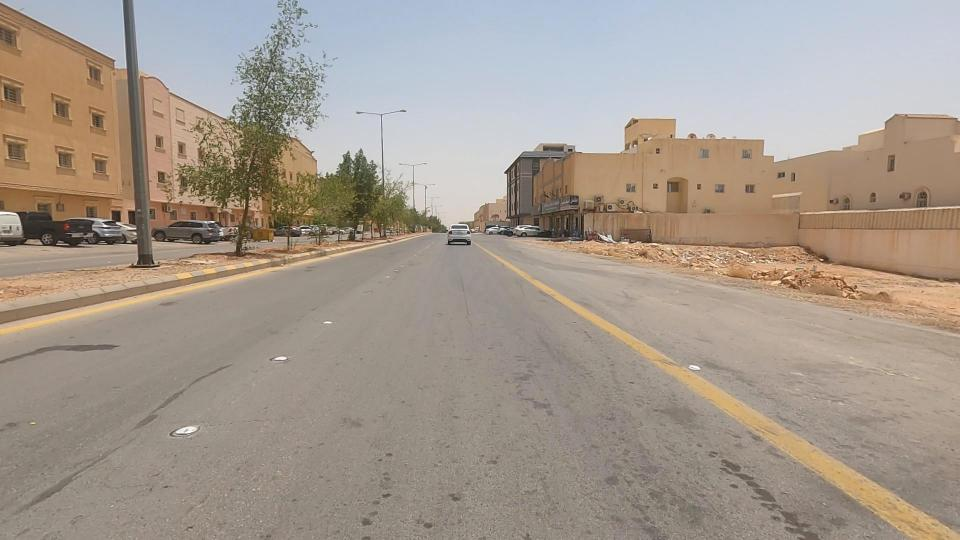GARBAGE: (595, 199, 679, 269), (649, 333, 733, 396), (549, 210, 635, 257)
